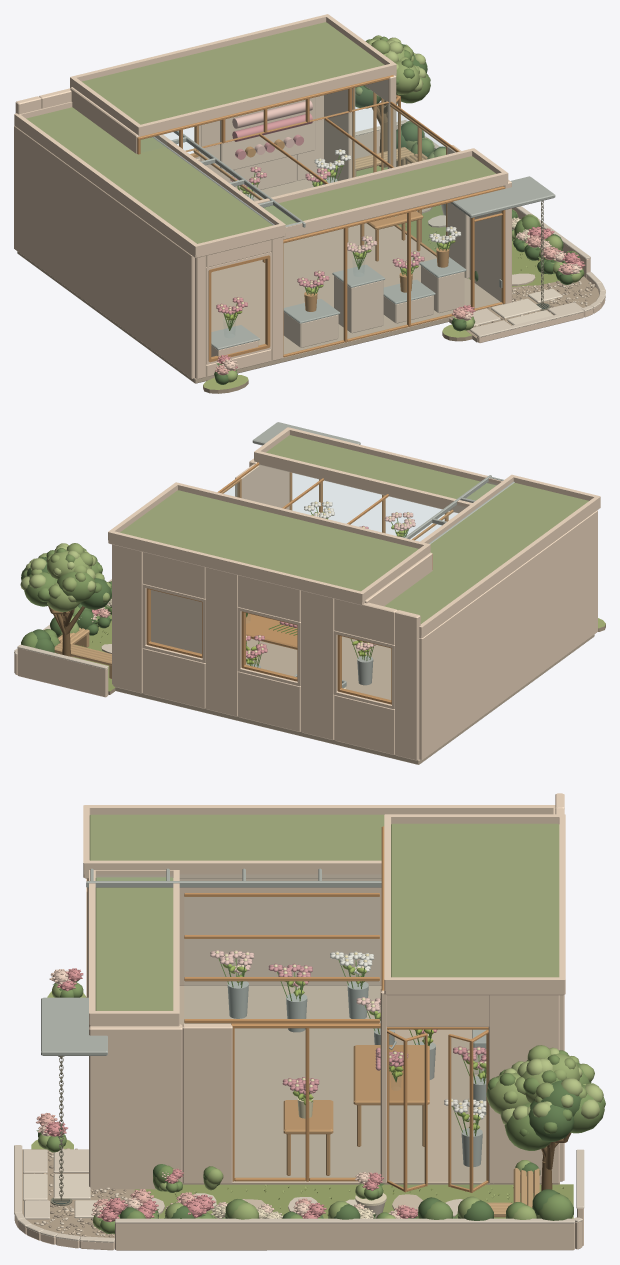
3 renders of one model, top to bottom at view 1: azimuth 30°, elevation 25°; view 2: azimuth 150°, elevation 25°; view 3: azimuth 270°, elevation 25°, orthographic. The views are drawn at different scales.
Visible parts, largest first — view 1: R 平屋面绿植层, A 左墙, R 乳白女儿墙, S 花店室内地面, I 鲜花展示石台, A 墙体, I 石台银灰顶, A 前店全高橱窗, A 入口右墙, I 包装纸架背板, R 错落平屋面, I 花束花瓣 (+34 smaller); view 2: R 平屋面绿植层, A 左墙, A 墙体, R 乳白女儿墙, A 窗下墙, A 窗上墙, S 花店室内地面, A 窗角实墙, L 庭院界墙 · 圆角收边, I 包装纸架背板, L 花园树 · 层叠叶冠, L 花园树 · 柔绿叶团 (+16 smaller); view 3: R 平屋面绿植层, S 花店室内地面, R 乳白女儿墙, A 左墙, A 入口右墙, L 庭院界墙 · 圆角收边, A 庭院南端米白实墙, A 后右工作墙, L 花境 · 常绿下木, L 侧园 · 草坪及土层, I 工作桌, L 绣球 · 聚伞花序 (+24 smaller).
Part boxes in pixels (x1,y1,x2,y2): R 平屋面绿植层: (26,22,495,243); A 左墙: (14,125,194,378); R 乳白女儿墙: (14,14,508,254); S 花店室内地面: (17,177,503,383); I 鲜花展示石台: (211,266,464,356); A 墙体: (15,95,323,379); I 石台银灰顶: (211,257,466,350); A 前店全高橱窗: (283,193,474,357); A 入口右墙: (469,180,511,304); I 包装纸架背板: (220,97,315,172); R 错落平屋面: (14,73,507,257); I 花束花瓣: (216,149,461,314); R 平屋面绿植层: (120,435,588,623); A 左墙: (419,510,597,760); A 墙体: (113,545,420,760); R 乳白女儿墙: (108,427,600,635); A 窗下墙: (143,648,394,754); A 窗上墙: (143,552,397,644); S 花店室内地面: (115,634,594,764); A 窗角实墙: (142,584,394,709); L 庭院界墙 · 圆角收边: (14,648,108,697); I 包装纸架背板: (151,590,201,653); L 花园树 · 层叠叶冠: (21,549,111,612); L 花园树 · 柔绿叶团: (20,543,111,602); R 平屋面绿植层: (89,814,559,1010); S 花店室内地面: (179,986,559,1184); R 乳白女儿墙: (83,805,565,1024); A 左墙: (179,878,381,985); A 入口右墙: (89,1024,182,1189); L 庭院界墙 · 圆角收边: (14,1208,583,1250); A 庭院南端米白实墙: (182,1024,232,1183); A 后右工作墙: (493,995,559,1183); L 花境 · 常绿下木: (120,1160,573,1220); L 侧园 · 草坪及土层: (134,1184,573,1218); I 工作桌: (283,1045,429,1175); L 绣球 · 聚伞花序: (36,968,418,1222).
Size of the model in its own units: 21.25 by 8.02 by 20.25.
